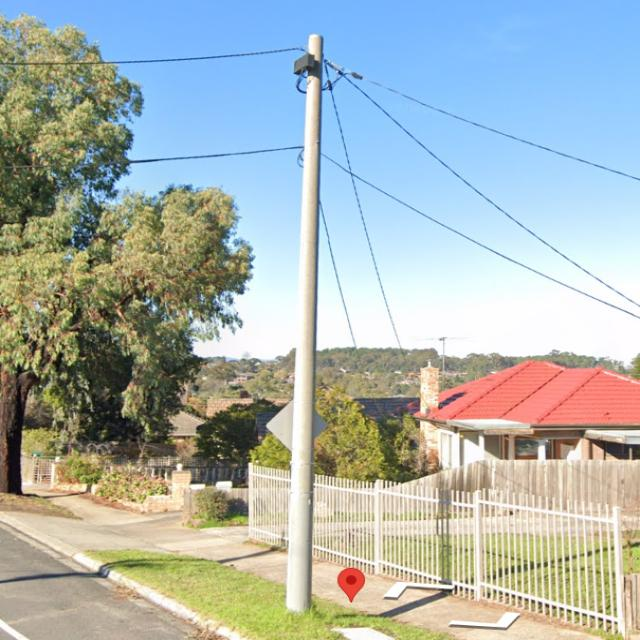concrete-pole: (284, 33, 326, 613)
top mount suitable pole: (284, 33, 327, 613)
